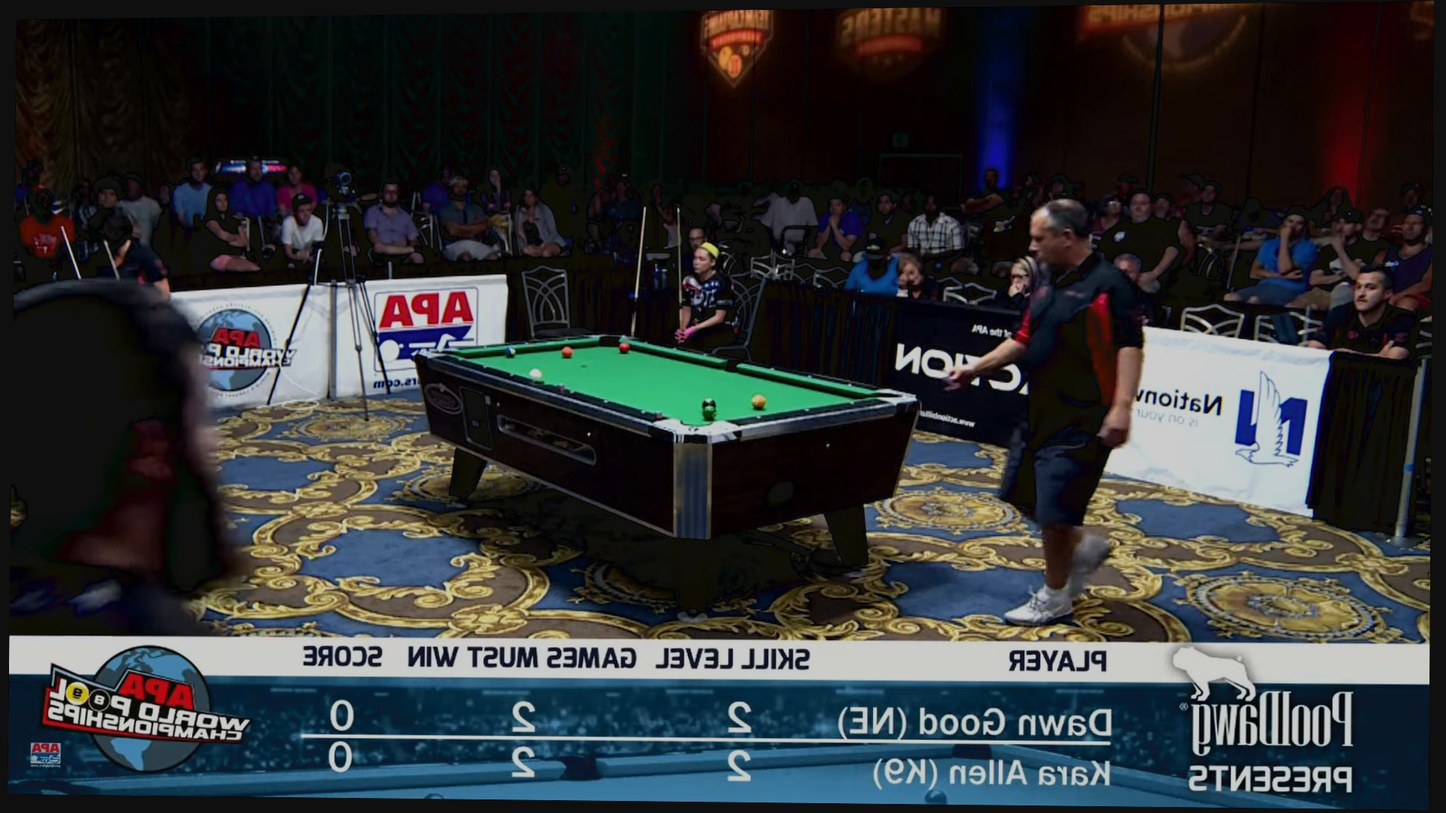Black: (844, 381, 855, 389), (804, 373, 815, 381), (767, 365, 778, 373), (669, 345, 680, 353), (561, 336, 572, 344), (521, 340, 532, 348), (506, 371, 517, 379), (566, 388, 577, 396), (638, 408, 649, 416), (802, 406, 813, 414), (847, 399, 858, 407), (641, 339, 651, 347), (480, 343, 490, 351), (480, 363, 490, 371), (455, 356, 466, 363), (600, 398, 611, 405), (700, 351, 710, 358), (754, 414, 764, 421)
Cue: (751, 394, 766, 409), (702, 405, 716, 420), (561, 346, 573, 358), (505, 347, 516, 358), (619, 342, 630, 353)
Solid: (702, 398, 716, 409)
Stripe: (528, 368, 542, 381)
